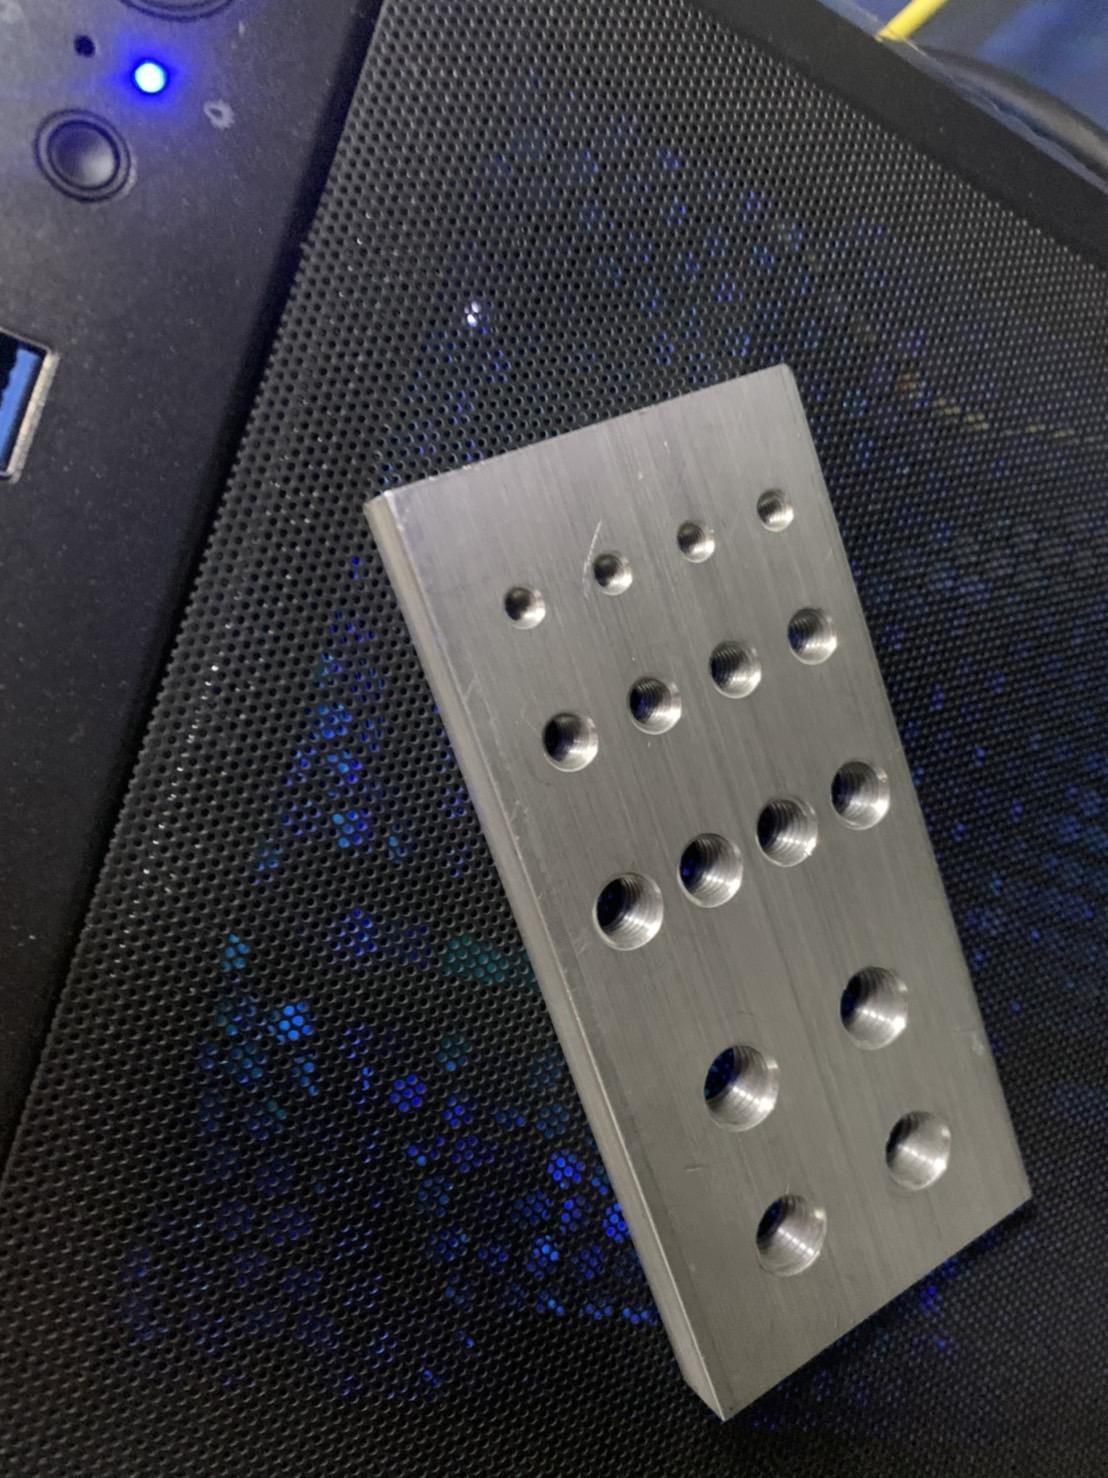hole: (696, 1044, 789, 1136), (834, 962, 922, 1052), (590, 868, 665, 953), (752, 1196, 830, 1277), (881, 1106, 956, 1189), (673, 829, 747, 911), (622, 666, 690, 739), (755, 793, 823, 865), (828, 760, 893, 831), (535, 708, 605, 773), (779, 606, 847, 666), (708, 638, 770, 701), (500, 583, 549, 631), (588, 547, 635, 595), (673, 517, 719, 562), (752, 486, 795, 534)
